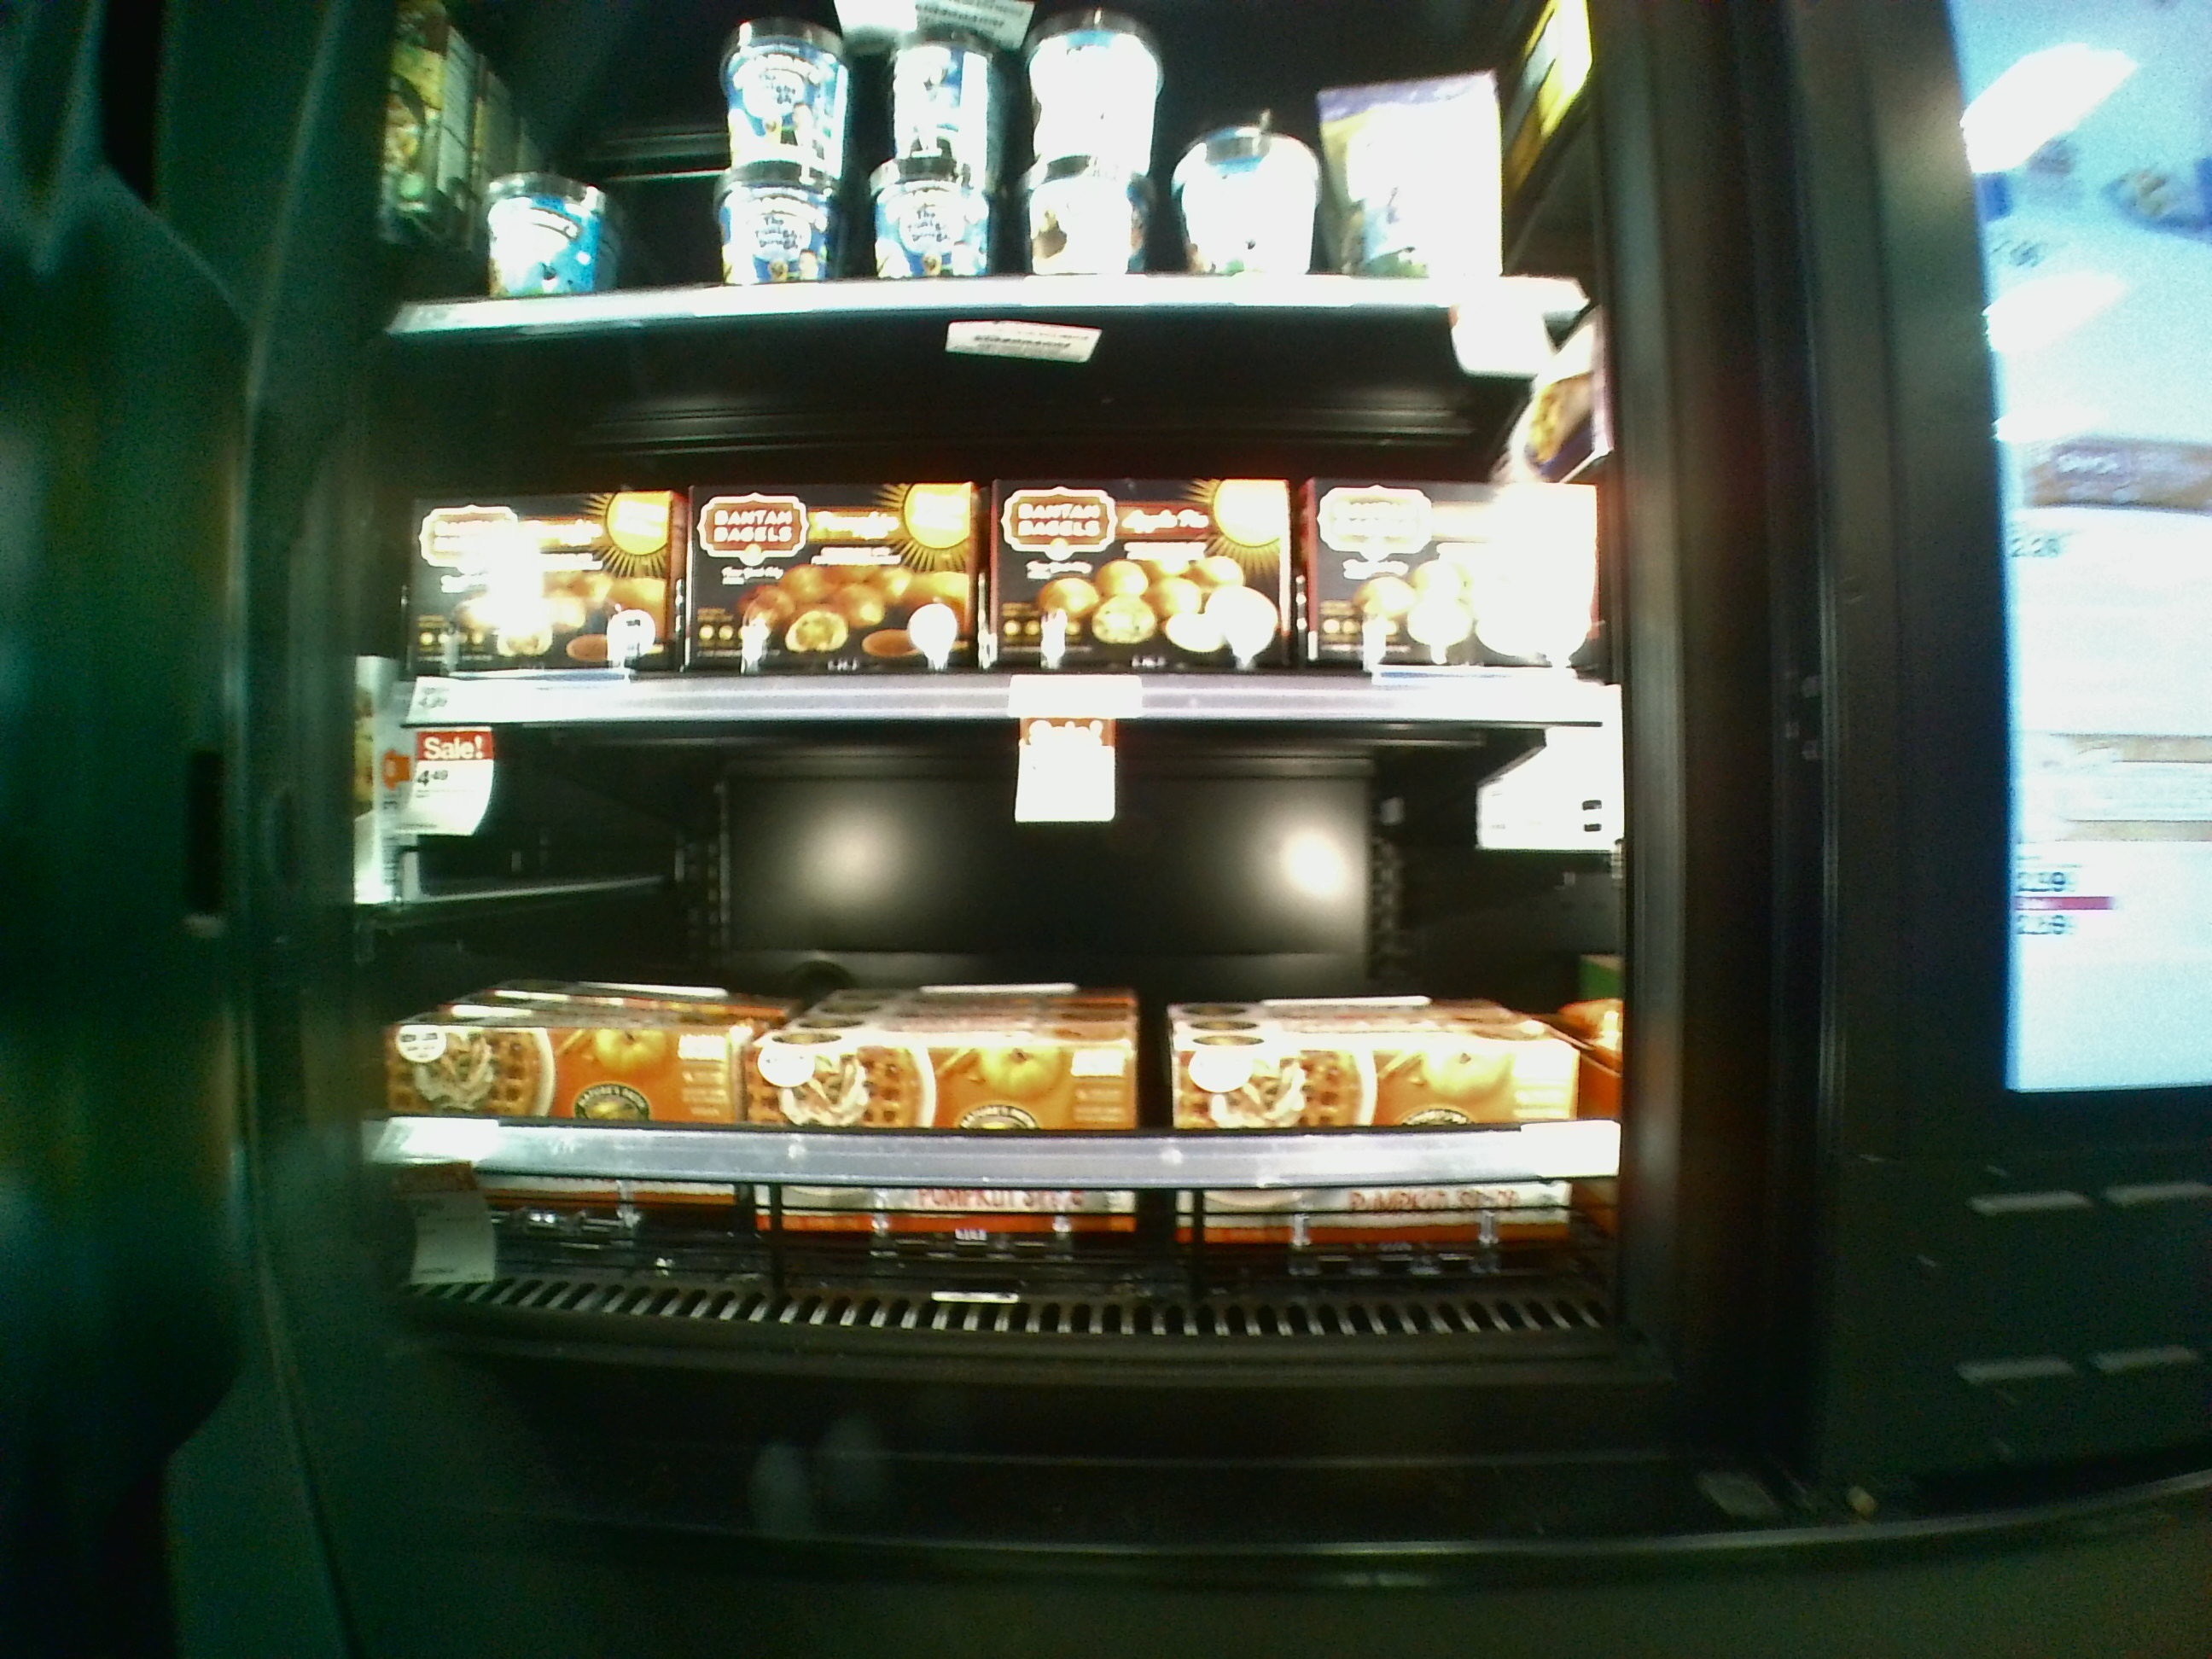shelf: (380, 699, 1635, 1358), (374, 303, 1641, 723)
